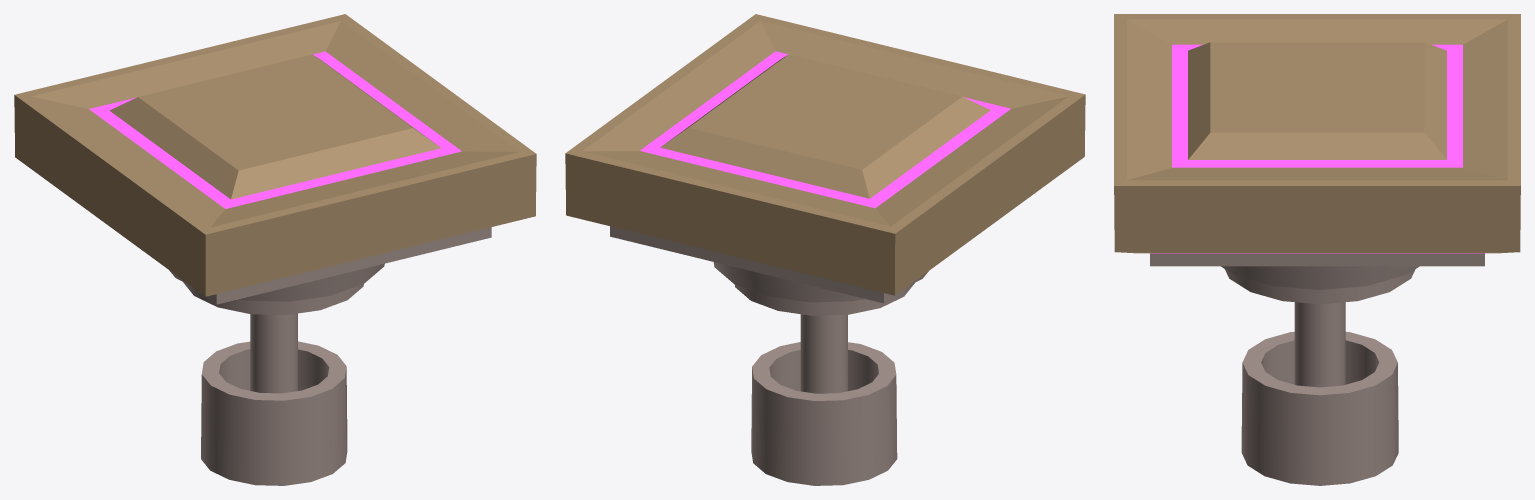
File: drone idea 3.fbx
3 renders of one model, left to right at view 1: azimuth 30°, elevation 25°; view 2: azimuth 150°, elevation 25°; view 3: azimuth 270°, elevation 25°, orthographic. The views are drawn at different scales.
Parts seen in each view (by area): view 1: Plane.002, Cylinder.003, Cylinder.006, Cylinder.002; view 2: Plane.002, Cylinder.003, Cylinder.006, Cylinder.002; view 3: Plane.002, Cylinder.003, Cylinder.006, Cylinder.002.
Part boxes in pixels (x1,y1,x2,y2): Plane.002: [14, 14, 536, 304]; Cylinder.003: [201, 313, 347, 485]; Cylinder.006: [169, 263, 384, 301]; Cylinder.002: [182, 281, 363, 314]; Plane.002: [565, 14, 1085, 303]; Cylinder.003: [751, 314, 897, 485]; Cylinder.006: [713, 262, 928, 302]; Cylinder.002: [734, 282, 915, 315]; Plane.002: [1114, 14, 1520, 266]; Cylinder.003: [1241, 302, 1398, 485]; Cylinder.006: [1221, 266, 1419, 289]; Cylinder.002: [1225, 269, 1415, 304].
Bounding box in the file's own units: 201 × 199 × 201.
